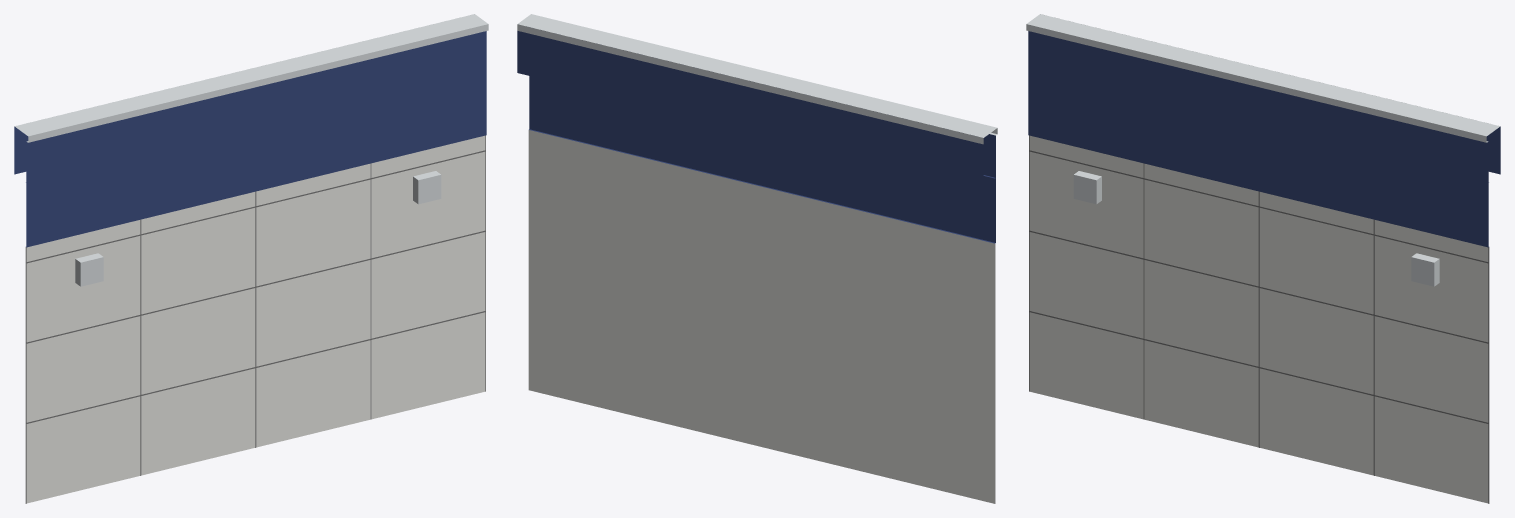
The model's file is top-w1_close.fbx.
3 views of the same model, side by side, from view 1: azimuth 30°, elevation 25°; view 2: azimuth 150°, elevation 25°; view 3: azimuth 330°, elevation 25° (orthographic).
Parts seen in each view (by area): view 1: a2013/200/top-w1_close; view 2: a2013/200/top-w1_close; view 3: a2013/200/top-w1_close.
Part boxes in pixels (x1,y1,x2,y2): a2013/200/top-w1_close: [14, 14, 488, 503]; a2013/200/top-w1_close: [517, 14, 997, 503]; a2013/200/top-w1_close: [1026, 14, 1500, 503].
Size of the model in its own units: 6 by 4.6 by 0.371.
